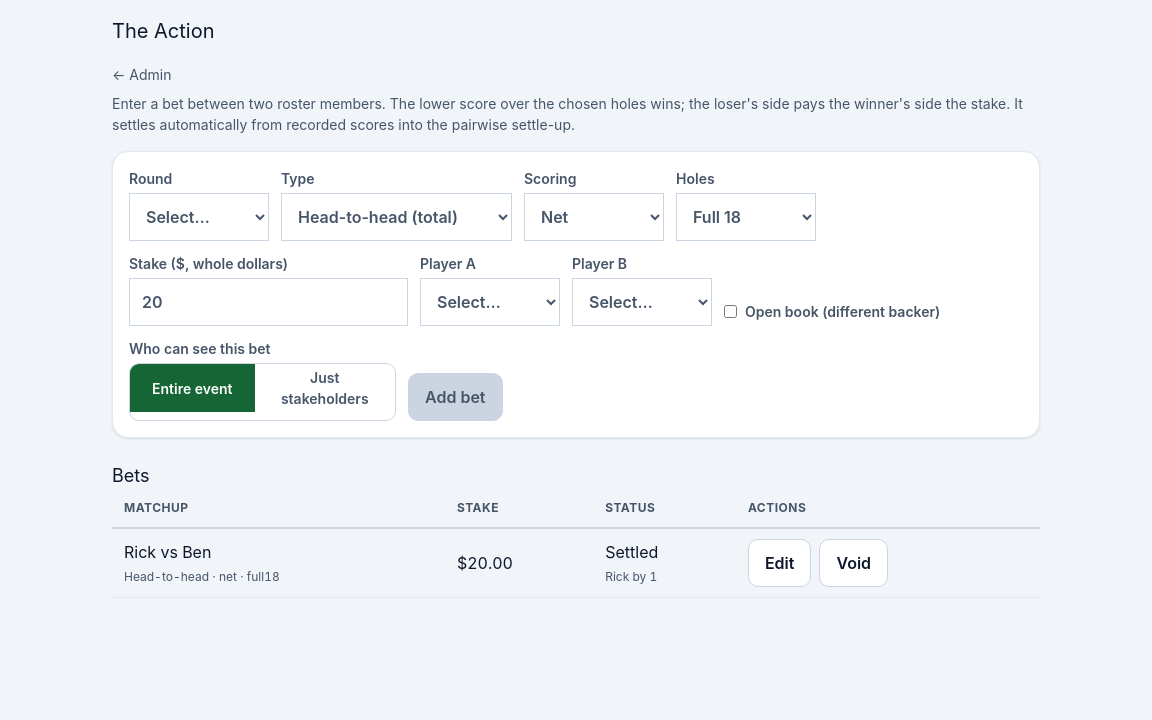
AdminBetsPage — Story 1.4 void › two-step-confirm Void posts to the void endpoint and the row flips to Void
Expected: the cell with test id "bet-state-bet-1" shows "Settled", x1=605 y1=542 x2=658 y2=562
Step 1. Click the button with test id "void-bet-1" → click(854, 563), box x1=819 y1=539 x2=888 y2=587
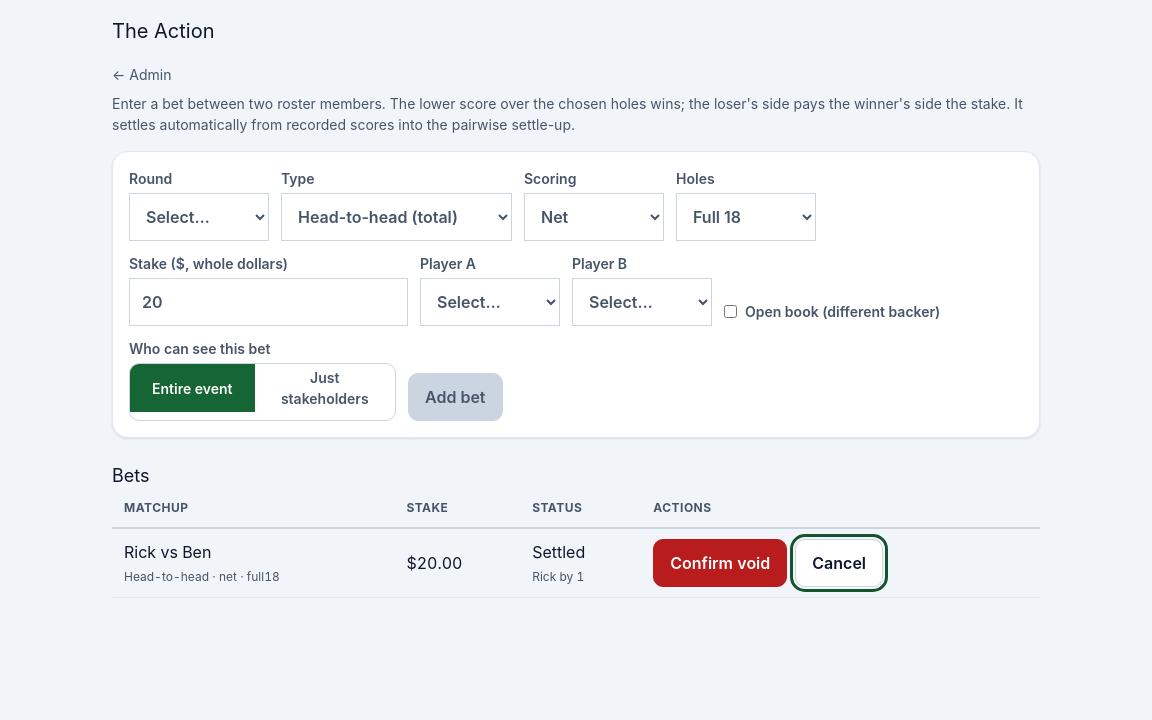
Expected: the button with test id "confirm-void-bet-1" is shown
// Confirm posts once and the row refetches to the voided state.
Step 2. Click the button with test id "confirm-void-bet-1" → click(720, 563), box x1=653 y1=539 x2=787 y2=587
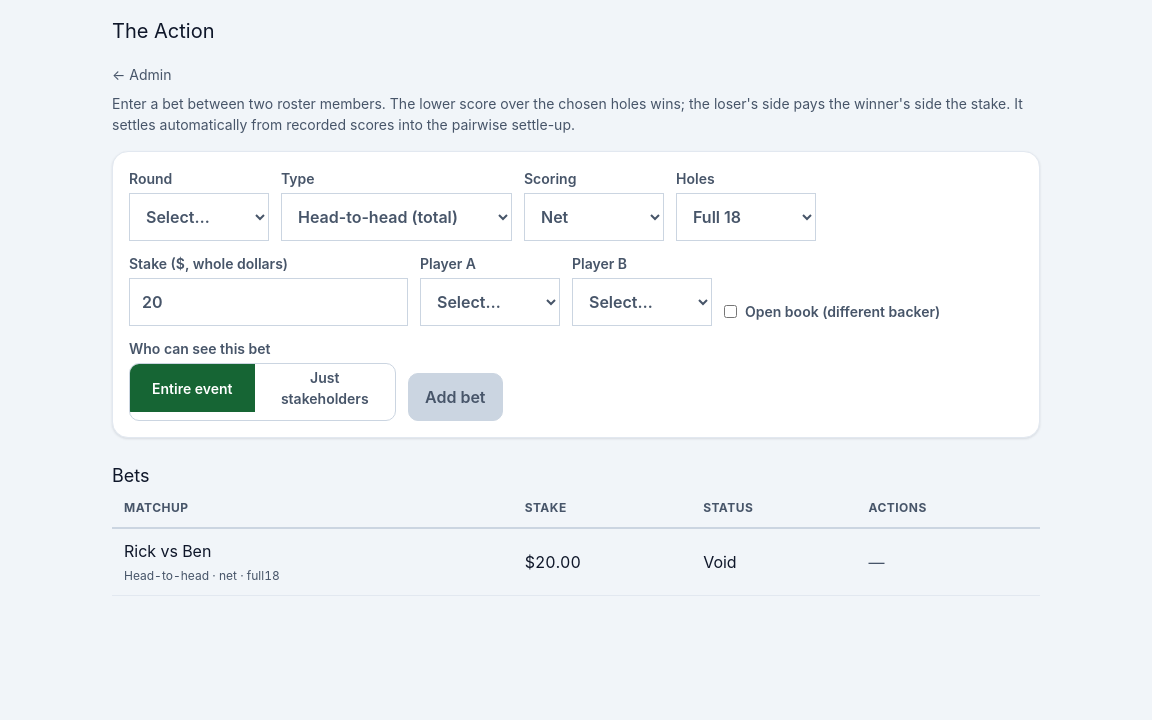
Expected: the cell with test id "bet-state-bet-1" reads "Void", x1=703 y1=552 x2=737 y2=572
